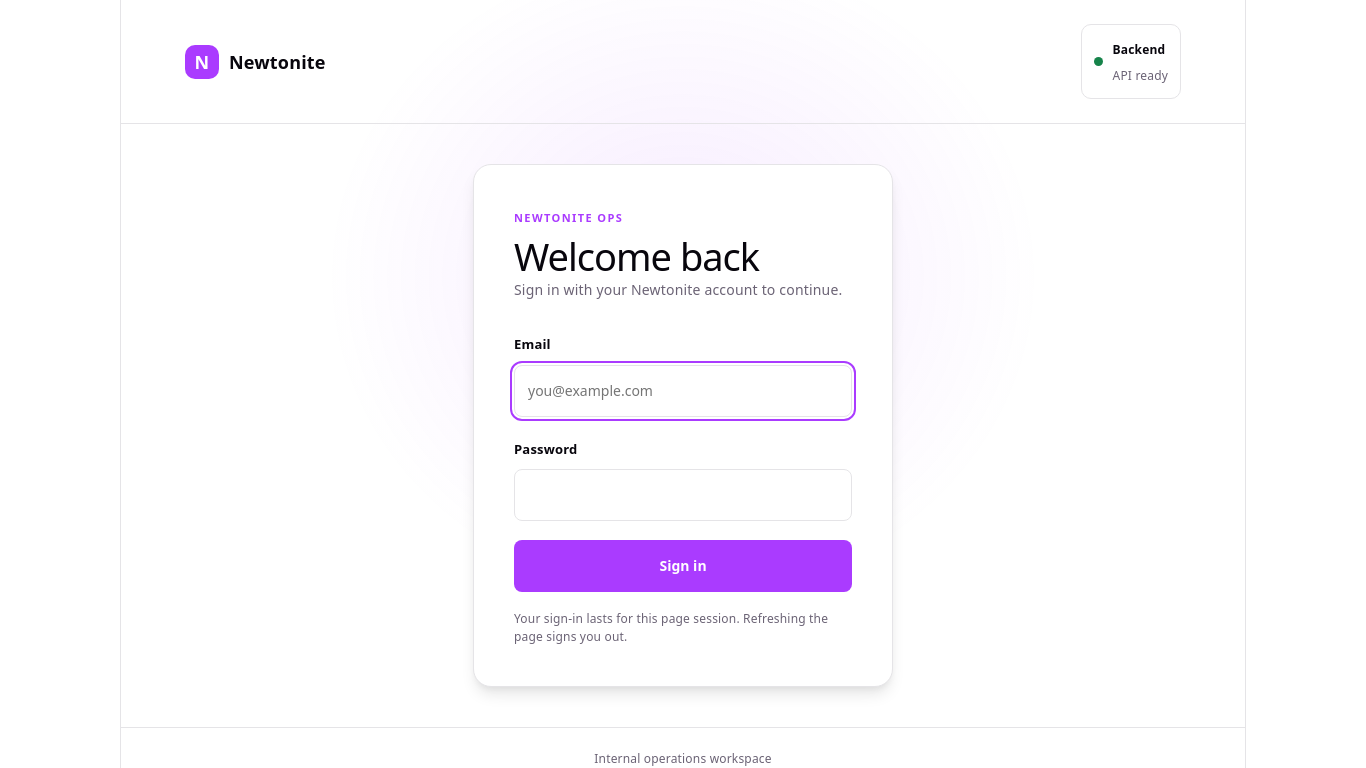
it: authentication › renders login, signs in, renders the workspace, and clears the in-memory session on logout
The image size is (1366, 768).
Check: the heading "Welcome back" is shown, box [514,230,759,282]
Type "morgan@example.test" into the field labelled "Email" at (683, 391), box [514,365,852,417]
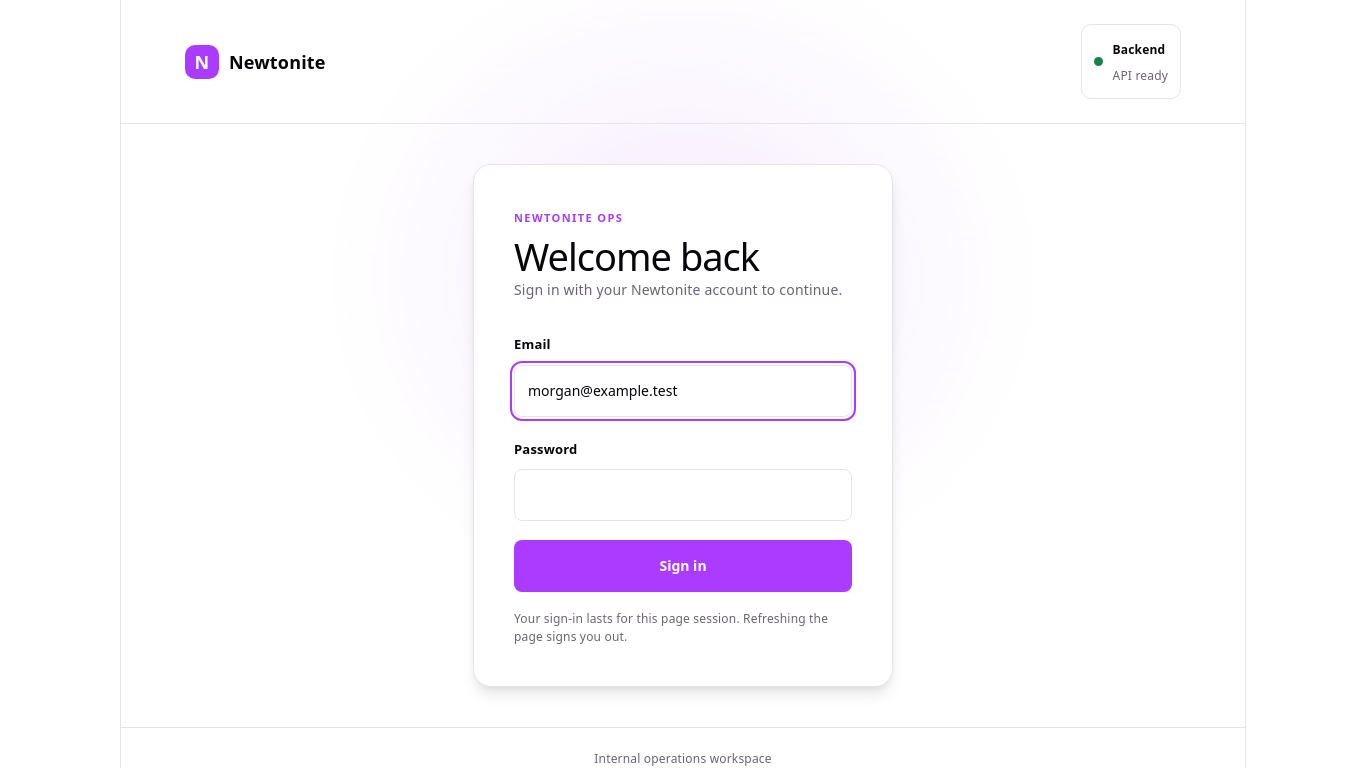
Type "safe-test-password" into the password field labelled "Password" at (683, 495), box [514,469,852,521]
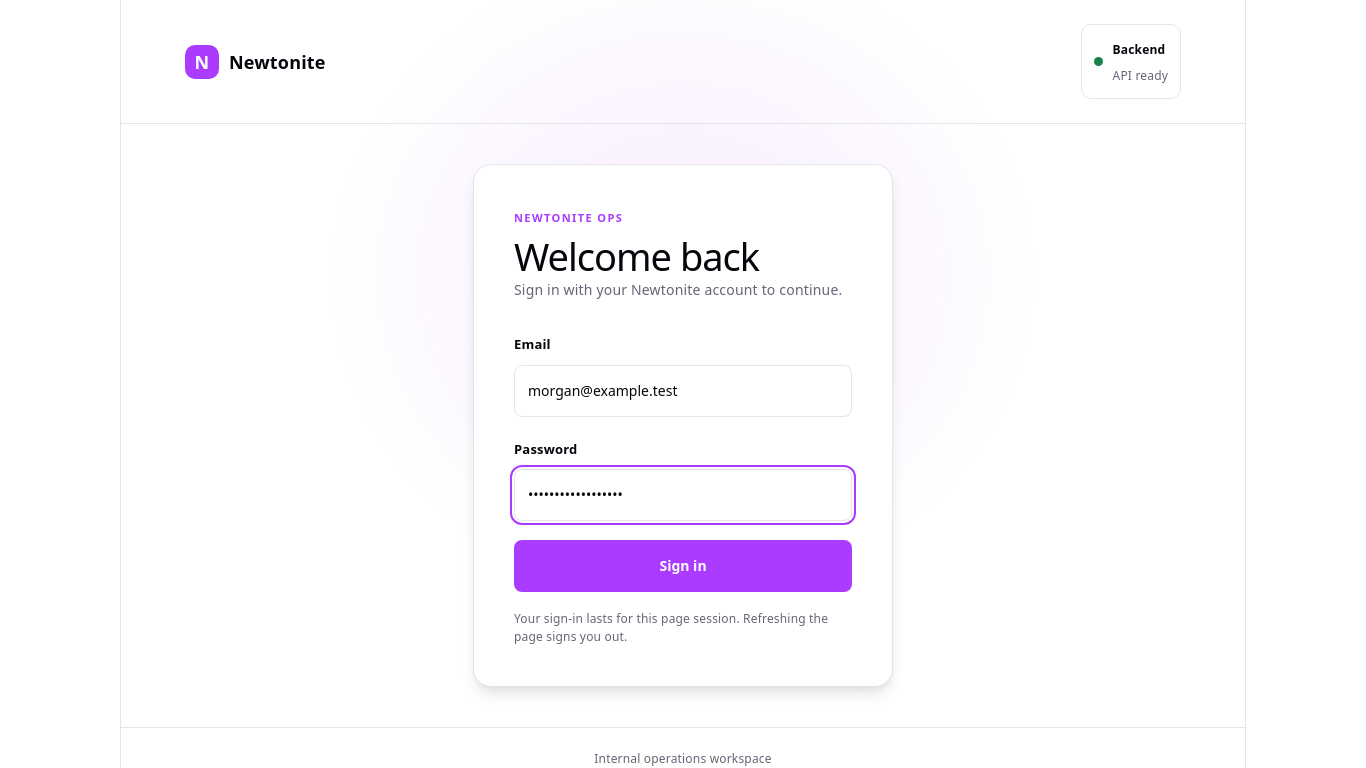
Click the button "Sign in" at (683, 566), box [514,540,852,592]
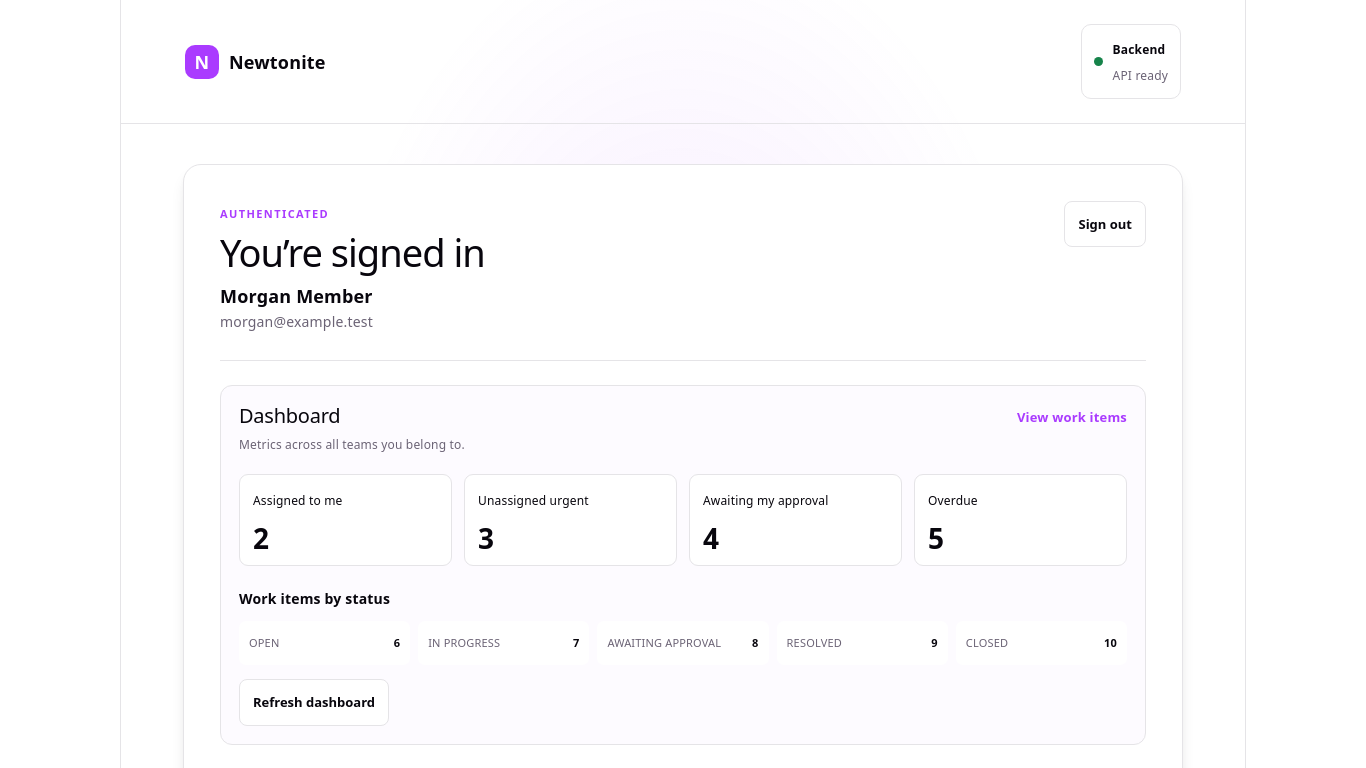
Check: the heading "You’re signed in" is shown, box [220,239,485,265]
Click the button "Sign out" at (1105, 224), box [1064,201,1146,247]
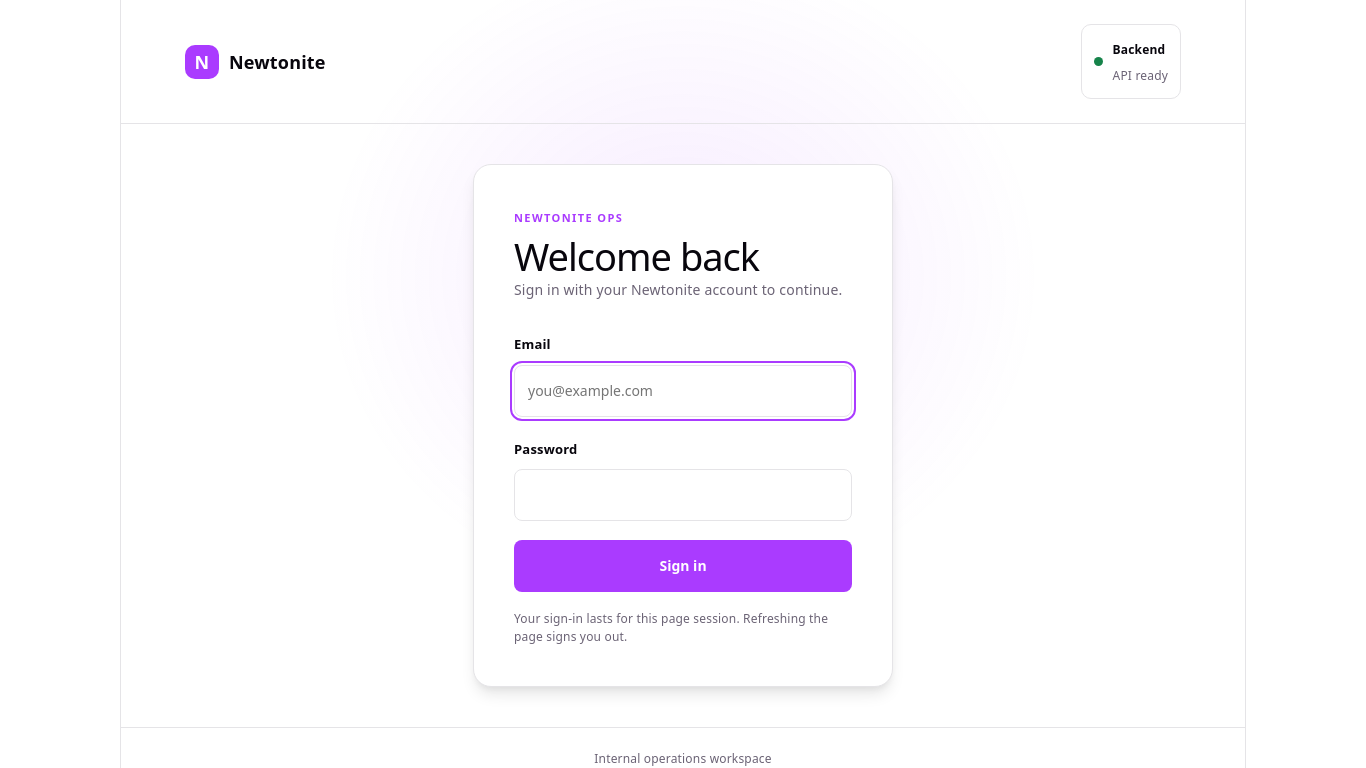
Check: the heading "Welcome back" is shown, box [514,230,759,282]
